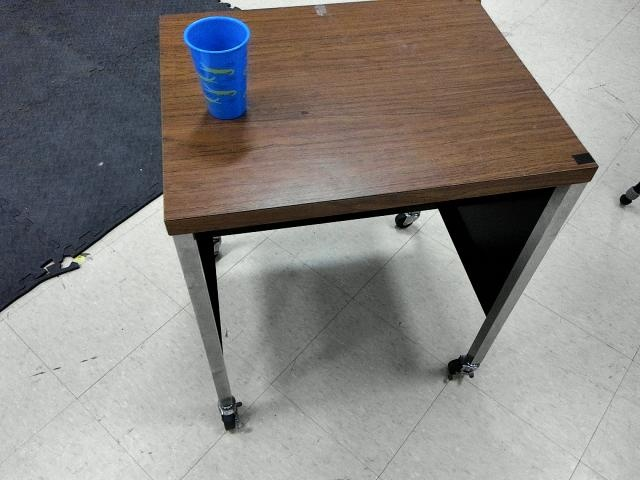water_cup: (168, 13, 262, 123)
